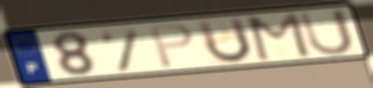7: (98, 26, 142, 73)
8: (49, 30, 98, 77)
M: (246, 11, 314, 63)
P: (147, 22, 196, 70)
U: (194, 15, 255, 65), (296, 8, 357, 58)
